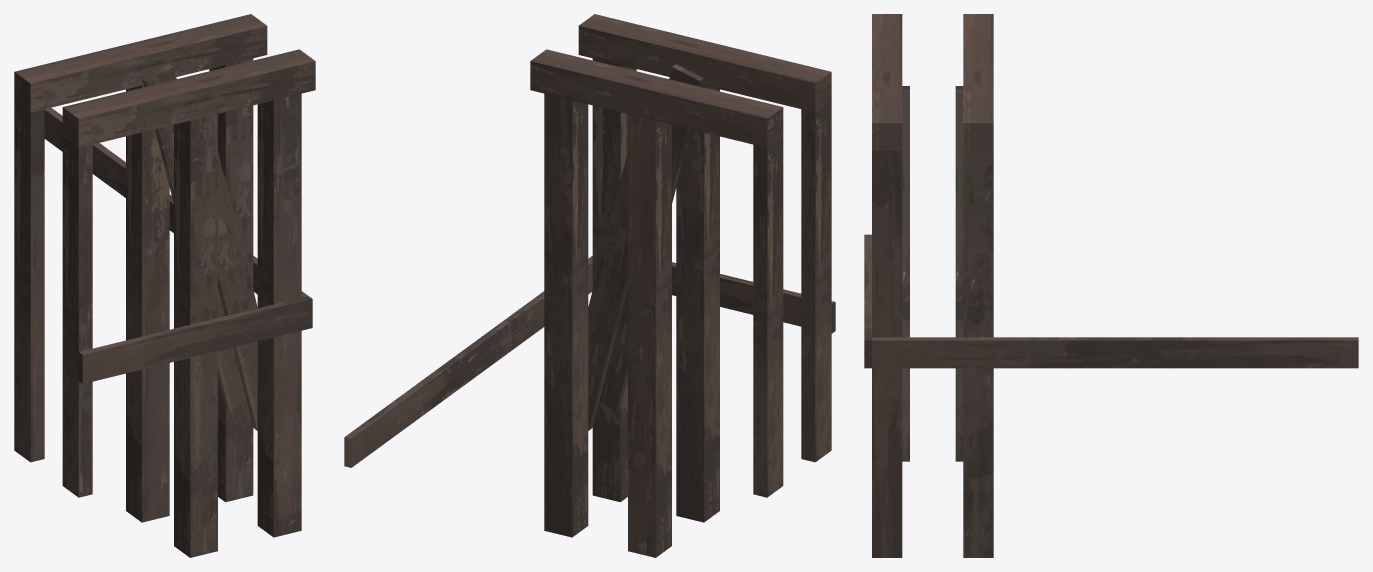
3 renders of one model, left to right at view 1: azimuth 30°, elevation 25°; view 2: azimuth 150°, elevation 25°; view 3: azimuth 270°, elevation 25°, orthographic. The views are drawn at different scales.
Parts seen in each view (by area): view 1: body0_model0_lod0_mesh0; view 2: body0_model0_lod0_mesh0; view 3: body0_model0_lod0_mesh0.
Boxes of the visible parts, x1,y1,x2,y2 form: body0_model0_lod0_mesh0: [14, 14, 315, 557]; body0_model0_lod0_mesh0: [345, 14, 835, 557]; body0_model0_lod0_mesh0: [864, 14, 1358, 557].
Size of the model in its own units: 136 by 256 by 260.
Materials: 2 (2 with a texture image).
